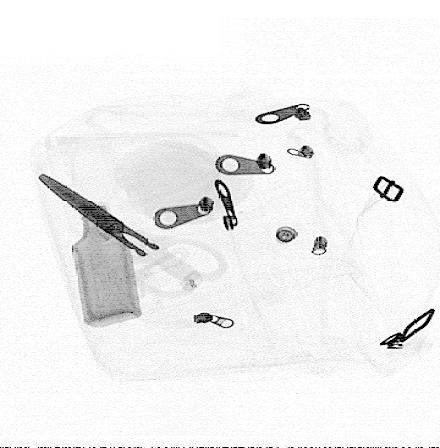Scissors: (31, 169, 237, 302)
